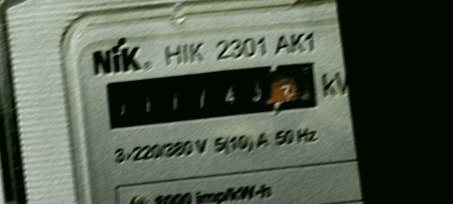0: (111, 88, 128, 116)
1: (137, 84, 155, 114), (165, 81, 182, 111)
3: (246, 75, 263, 103), (276, 80, 294, 103)
4: (220, 79, 238, 106)
7: (192, 81, 210, 107)
screen: (96, 47, 328, 141)
